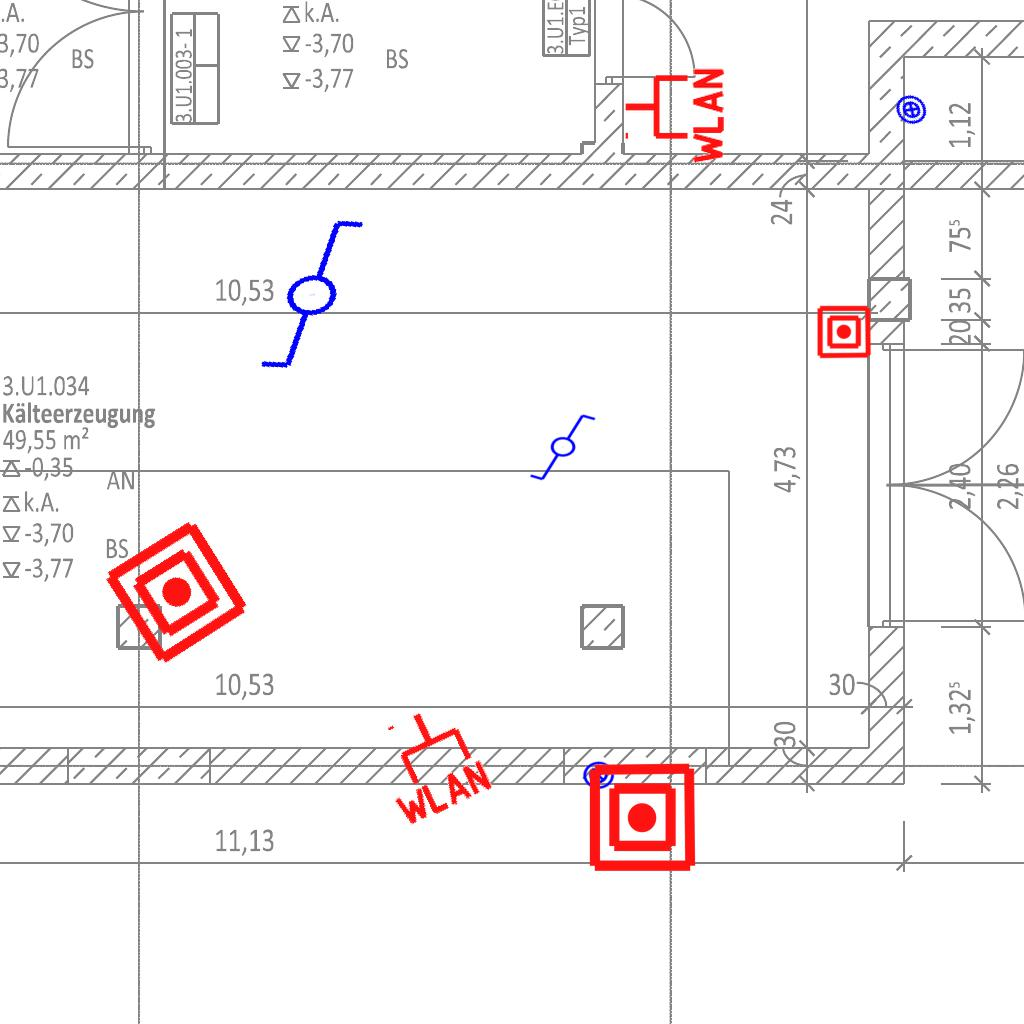NAM-Nichtautomatischer_Melder: (98, 514, 255, 671), (586, 761, 699, 874), (816, 304, 872, 360)
Taster_beleuchtet: (888, 86, 935, 133), (582, 759, 615, 792)
WLAN: (359, 692, 498, 832), (621, 64, 726, 168)
Wechselschalter: (210, 207, 397, 383), (528, 412, 606, 484)
